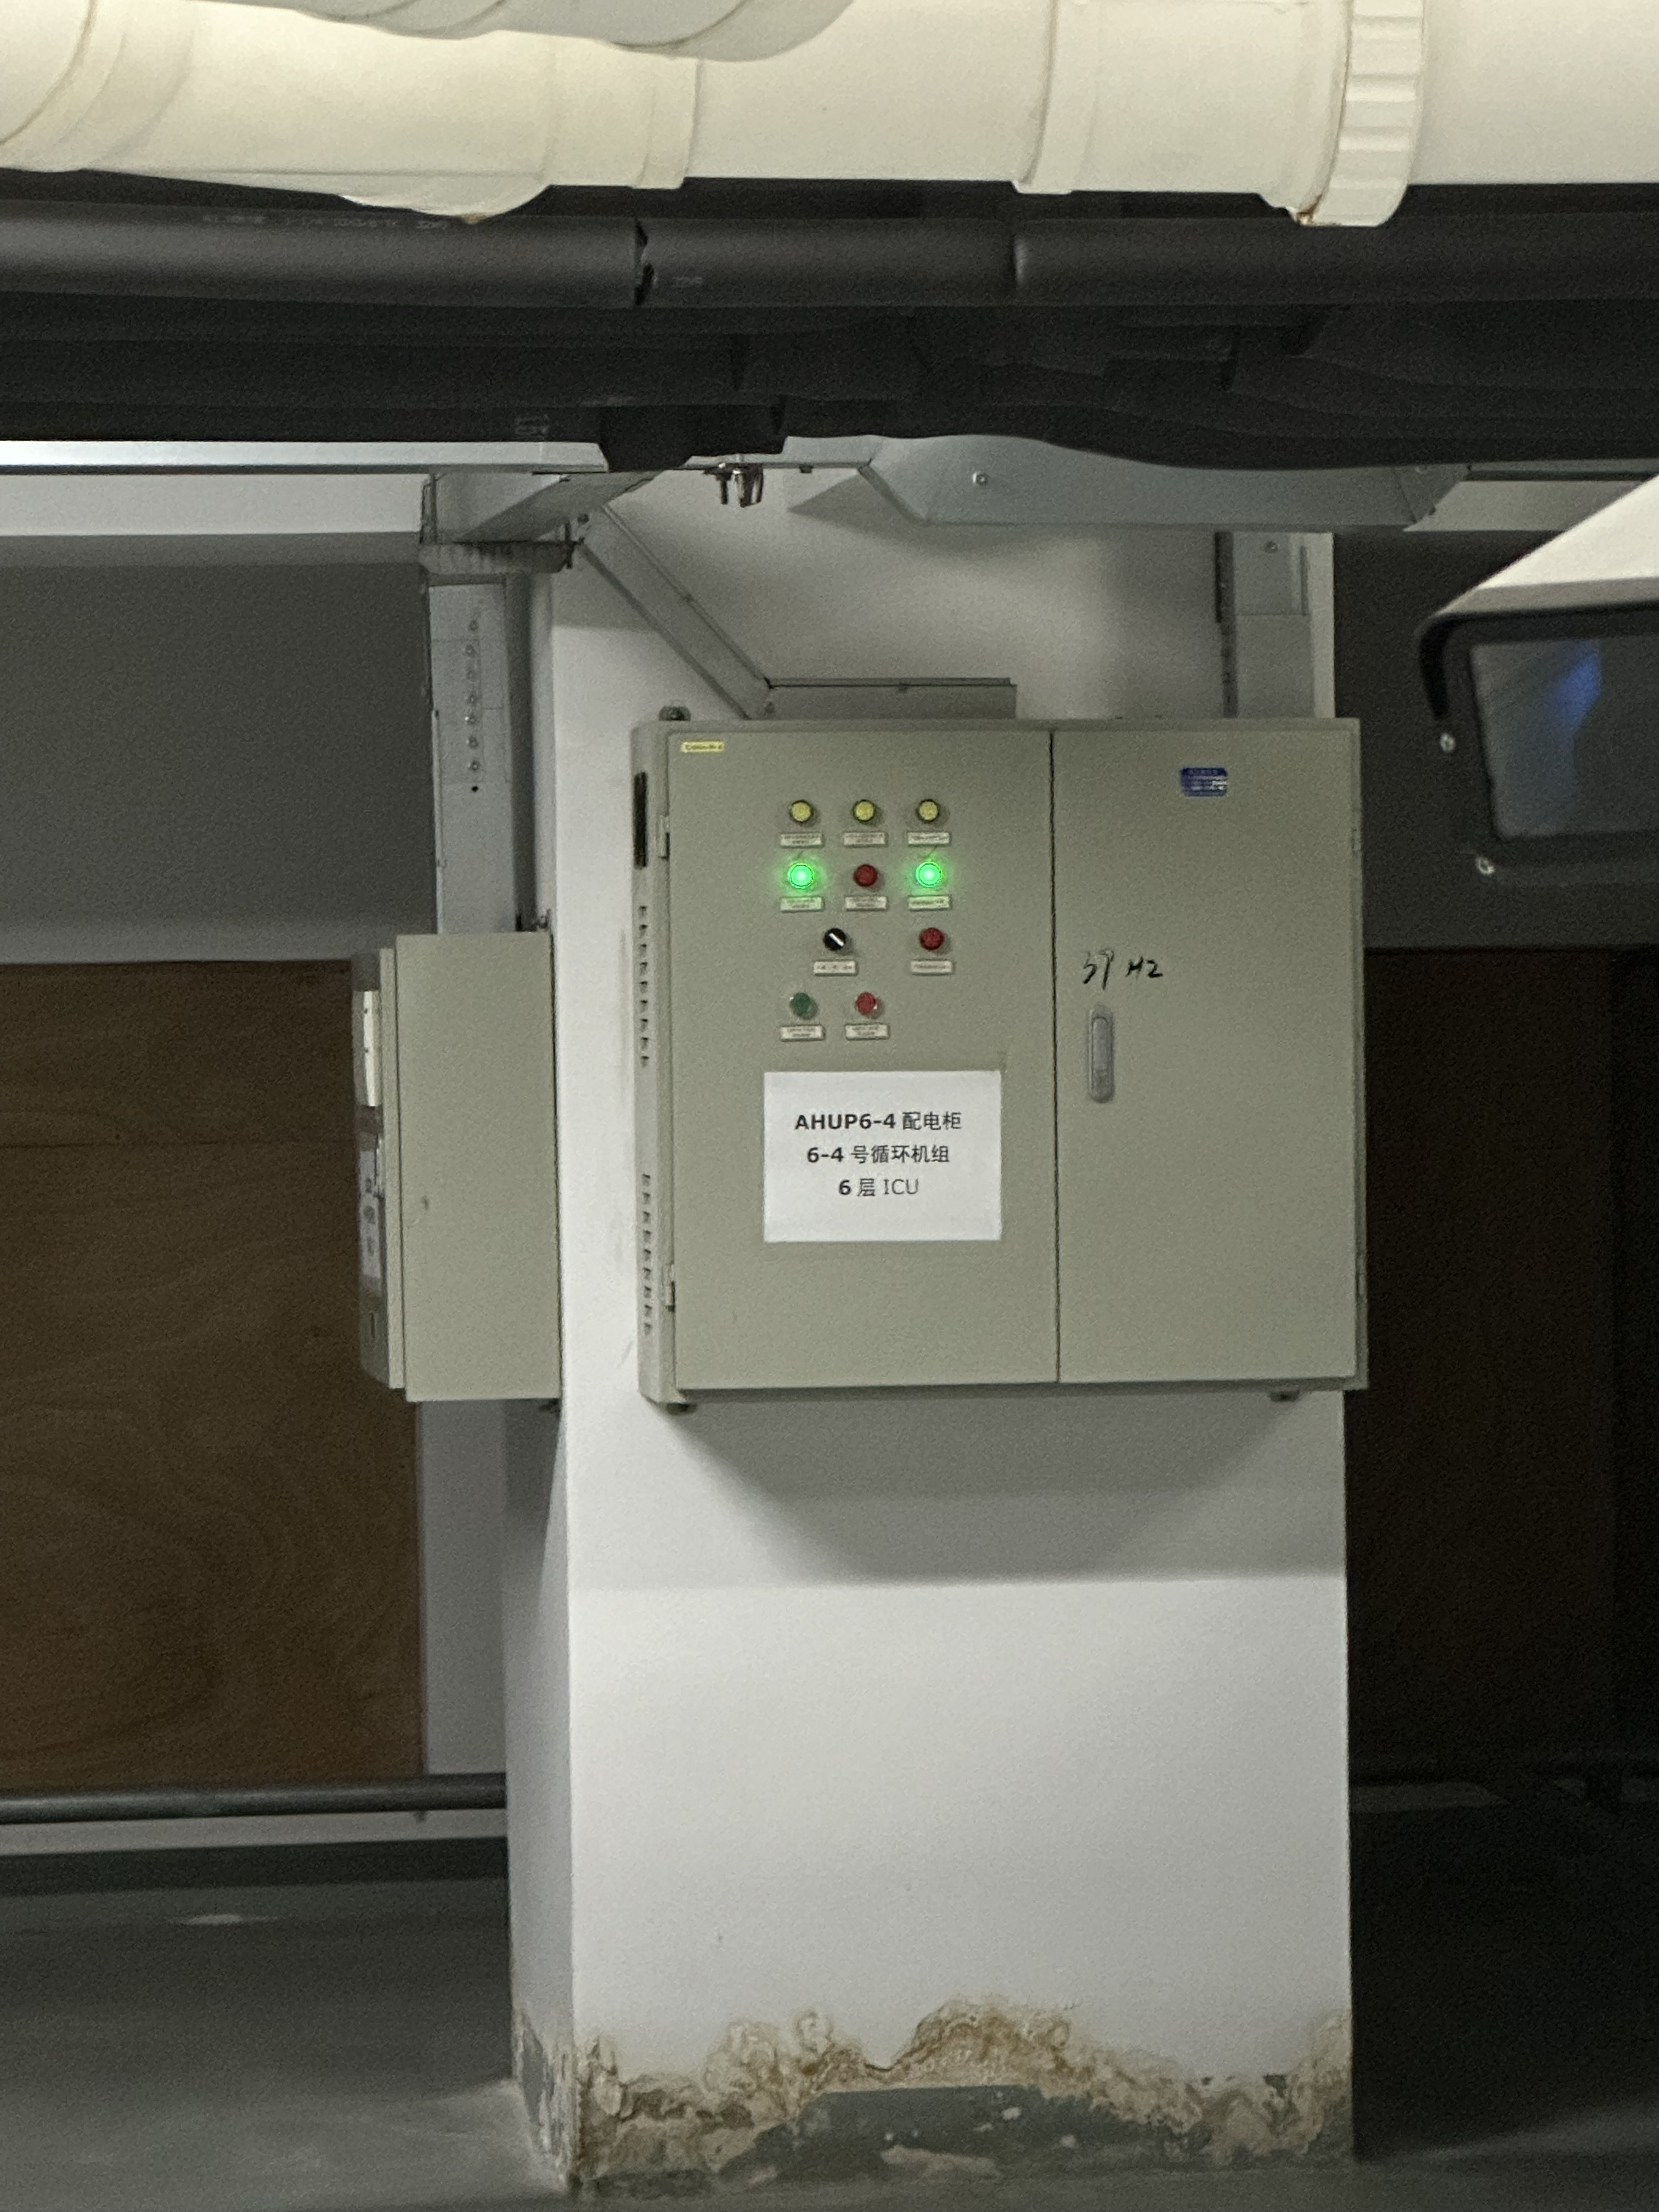4-1: (781, 791, 824, 829)
4-2: (840, 786, 890, 829)
4-3: (904, 786, 951, 829)
4-4: (782, 850, 828, 899)
4-5: (842, 853, 887, 895)
4-6: (904, 852, 957, 895)
4-7: (814, 918, 861, 963)
